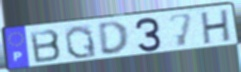3: (133, 16, 162, 53)
7: (168, 11, 195, 49)
B: (29, 28, 64, 65)
D: (96, 20, 131, 56)
H: (200, 8, 232, 46)
Q: (63, 24, 99, 60)
